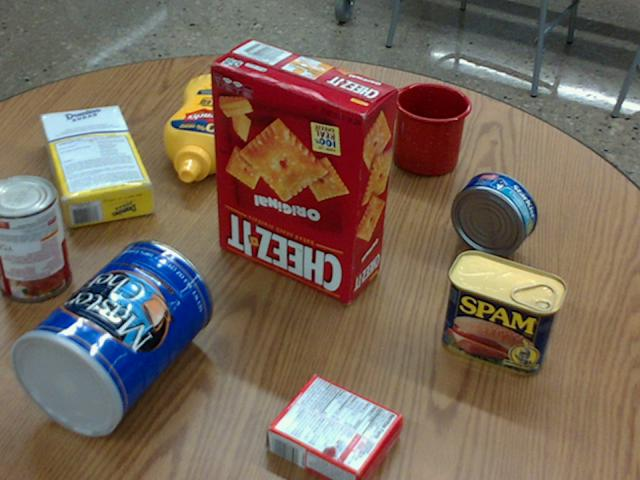cracker_box: (210, 39, 397, 302)
gelatin_box: (267, 373, 402, 479)
large_marker: (314, 100, 345, 158)
master_chef_can: (11, 239, 212, 436)
mug: (391, 82, 470, 176)
mustard_bottle: (163, 74, 262, 181)
potted_meat_can: (441, 250, 567, 374)
sugar_box: (39, 101, 153, 228)
tomato_soup_can: (0, 174, 71, 301)
tuna_fish_can: (450, 171, 536, 255)
